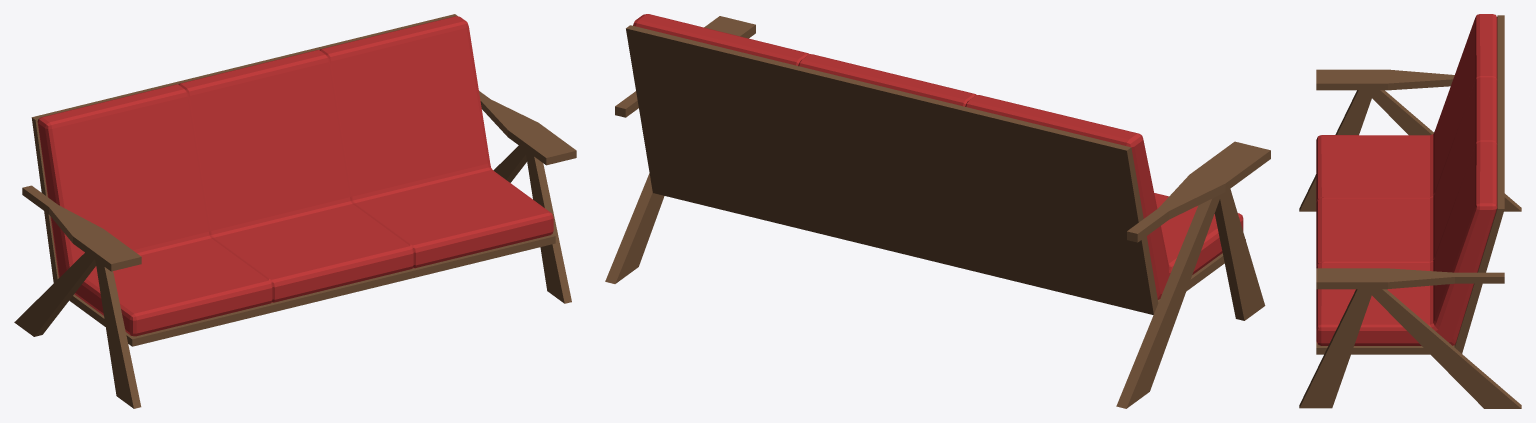
File: Couch_12.fbx
3 renders of one model, left to right at view 1: azimuth 30°, elevation 25°; view 2: azimuth 150°, elevation 25°; view 3: azimuth 270°, elevation 25°, orthographic. The views are drawn at different scales.
Visible parts, largest first — view 1: Couch_12; view 2: Couch_12; view 3: Couch_12.
Boxes of the visible parts, x1,y1,x2,y2 form: Couch_12: (14, 14, 576, 408); Couch_12: (605, 14, 1270, 408); Couch_12: (1299, 14, 1521, 408).
Bounding box in the file's own units: 273 × 120 × 119.
